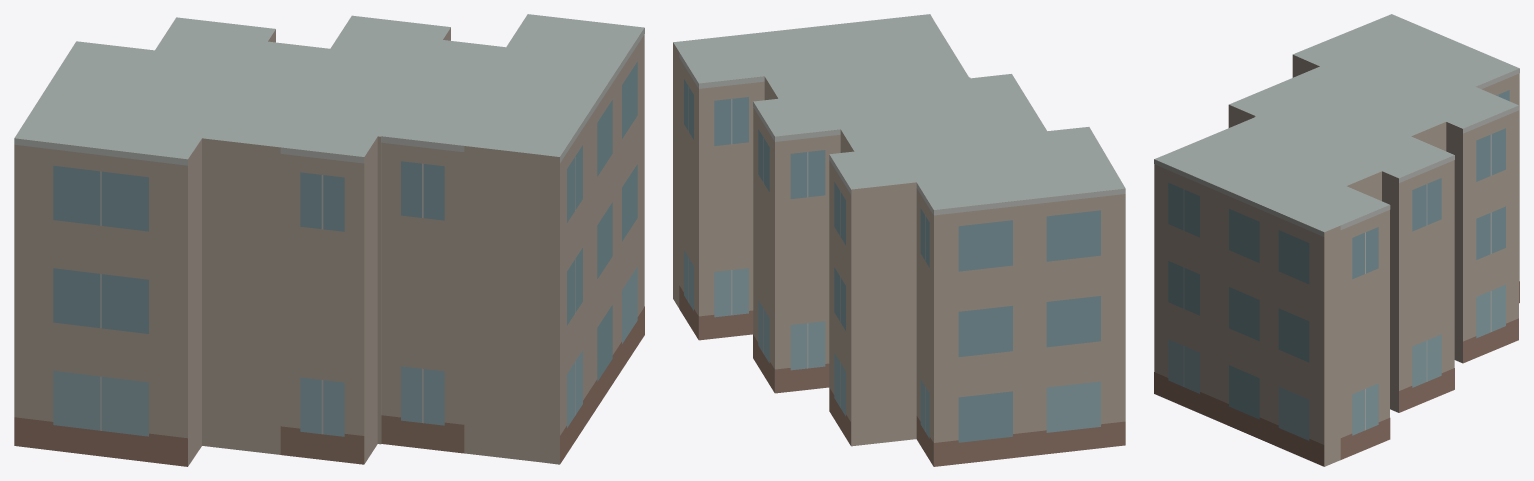
Rendered from survey-upis-32472478.glb.
3 views of the same model, side by side, from view 1: azimuth 30°, elevation 25°; view 2: azimuth 150°, elevation 25°; view 3: azimuth 270°, elevation 25° (orthographic). The views are drawn at different scales.
Visible parts, largest first — view 1: survey-upis-32472478.tmp; view 2: survey-upis-32472478.tmp; view 3: survey-upis-32472478.tmp.
Boxes of the visible parts, x1=… form: survey-upis-32472478.tmp: x1=14, y1=14, x2=644, y2=466; survey-upis-32472478.tmp: x1=673, y1=14, x2=1125, y2=466; survey-upis-32472478.tmp: x1=1154, y1=14, x2=1519, y2=466.
Size of the model in its own units: 23.42 by 11.73 by 16.58.
